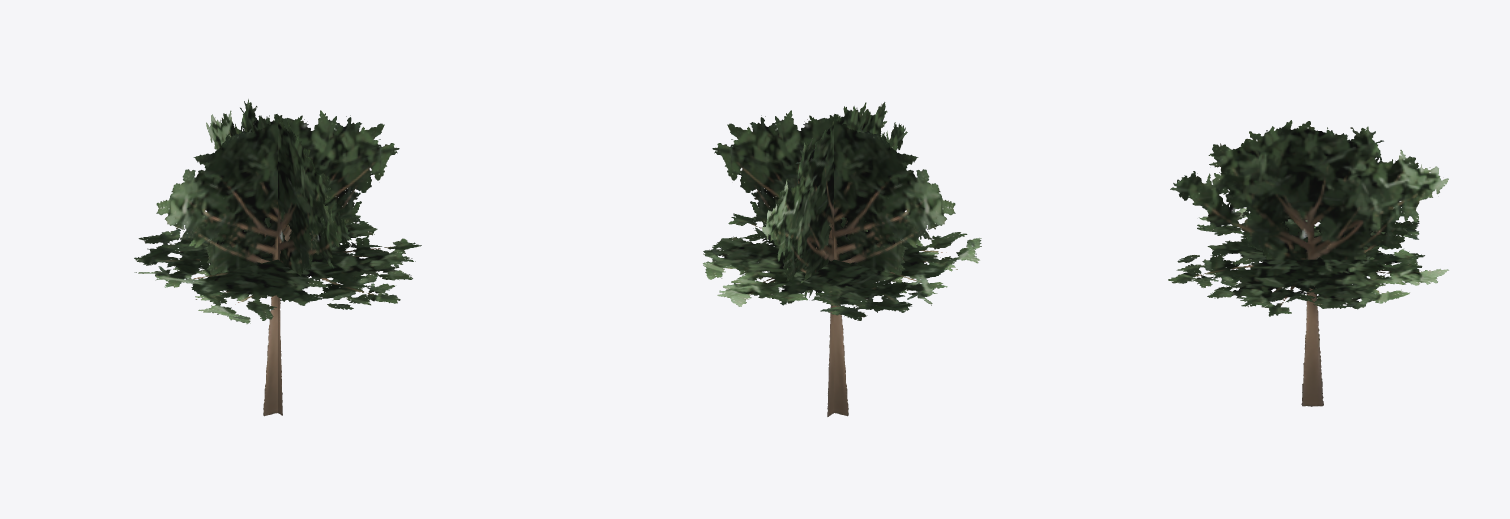
Rendered from far.glb.
The picture shows the model from 3 angles, left to right: view 1: azimuth 30°, elevation 25°; view 2: azimuth 150°, elevation 25°; view 3: azimuth 270°, elevation 25°; orthographic projection. The views are drawn at different scales.
Parts seen in each view (by area): view 1: far; view 2: far; view 3: far.
Boxes of the visible parts, x1,y1,x2,y2 form: far: (134,99,421,416); far: (703,102,981,416); far: (1168,120,1448,406).
Bounding box in the file's own units: 29.6 × 29.6 × 29.6.
2 materials, 2 textured.
